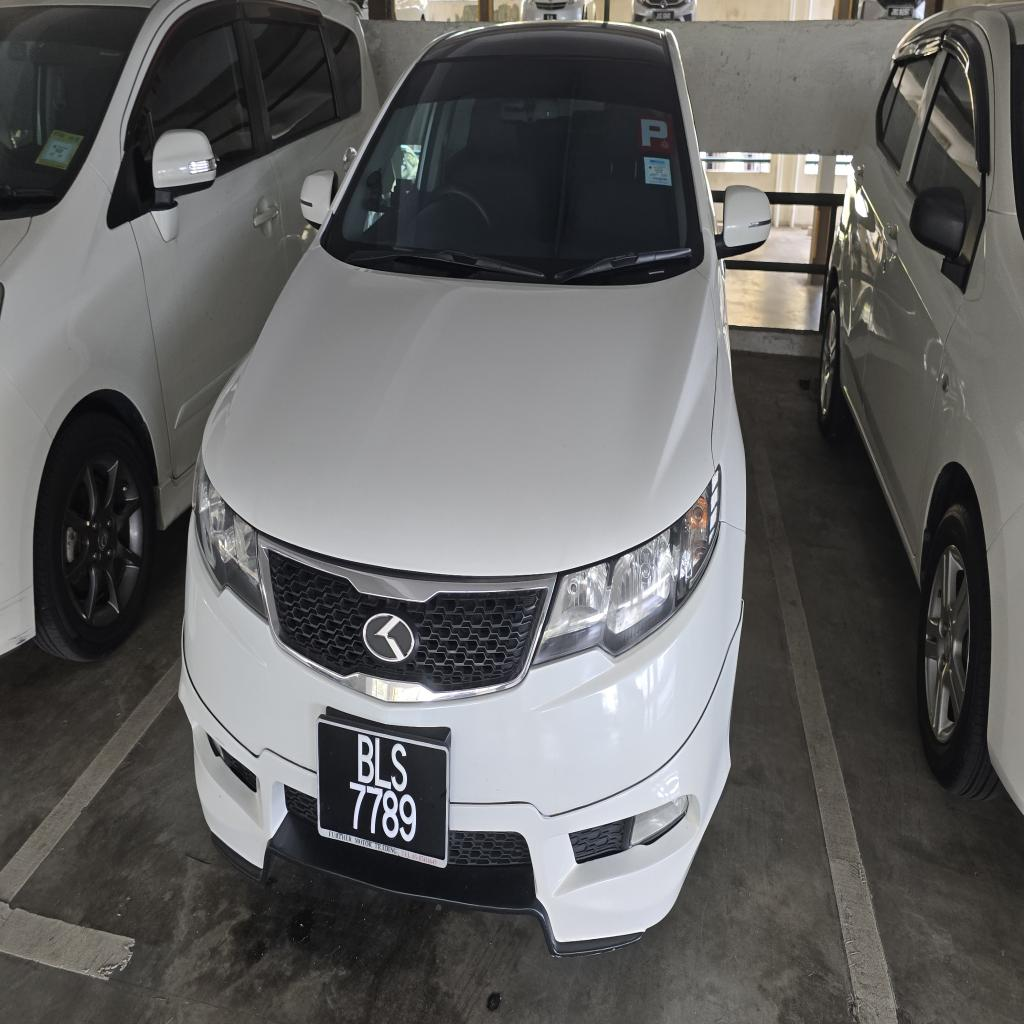car: (180, 24, 770, 954)
car plate: (318, 715, 449, 867)
